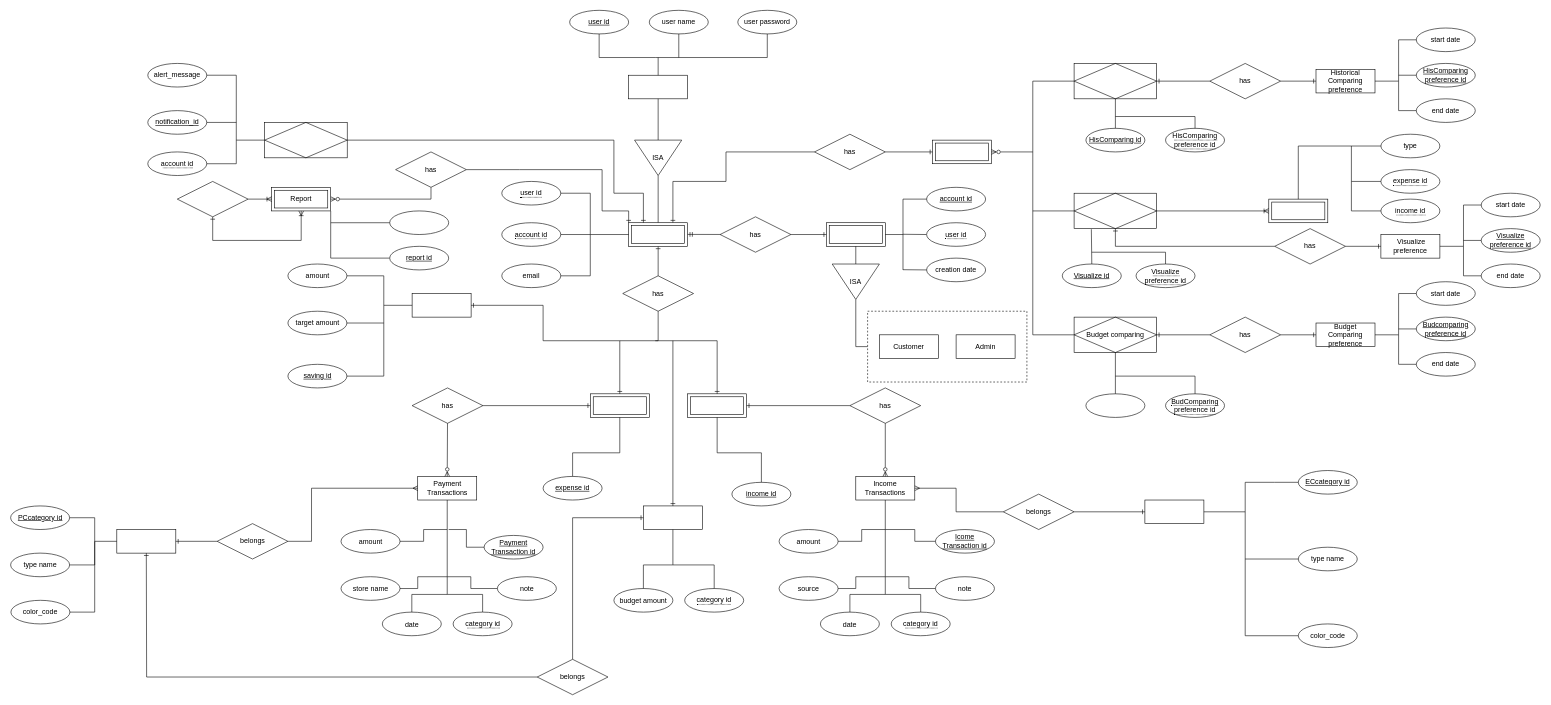
The diagram is 1551 pixels wide and 705 high, and some of its shapes have lost their labels. Here are the shapes that lost their labels. From the top down, the box of each, then its label:
(628, 75, 688, 99): User
(1074, 63, 1157, 99): Historical comparing
(264, 122, 347, 158): Notification
(932, 140, 991, 164): Dashboard
(177, 181, 248, 217): summarize
(1074, 193, 1157, 229): Visualize
(1268, 199, 1328, 223): Chart
(389, 210, 449, 235): report_date
(628, 222, 688, 246): Registered user
(826, 222, 885, 246): Account
(412, 293, 471, 317): Saving
(590, 393, 649, 417): Expense
(687, 393, 747, 417): Income
(1085, 393, 1145, 417): BudComparing id
(643, 505, 702, 530): Budget
(1144, 499, 1204, 524): Earning category
(116, 529, 176, 553): Payment category
